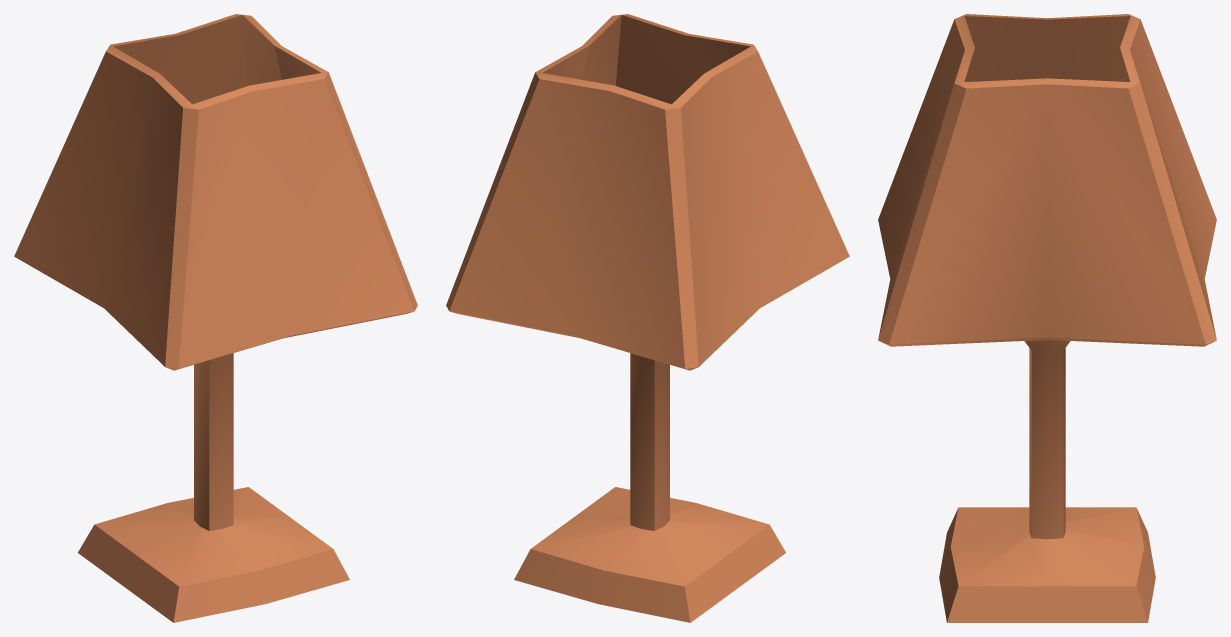
The model's file is NST_BedsideLamp.fbx.
3 renders of one model, left to right at view 1: azimuth 30°, elevation 25°; view 2: azimuth 150°, elevation 25°; view 3: azimuth 270°, elevation 25°, orthographic. The views are drawn at different scales.
Parts seen in each view (by area): view 1: NST_Lamp; view 2: NST_Lamp; view 3: NST_Lamp.
Boxes of the visible parts, bbox=[...] form: NST_Lamp: bbox=[14, 14, 417, 622]; NST_Lamp: bbox=[446, 14, 849, 622]; NST_Lamp: bbox=[878, 14, 1216, 622].
Bounding box in the file's own units: 25.11 × 48.01 × 27.79.
